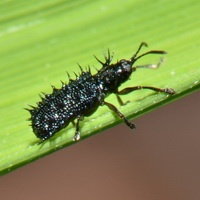insect: (26, 42, 174, 140)
